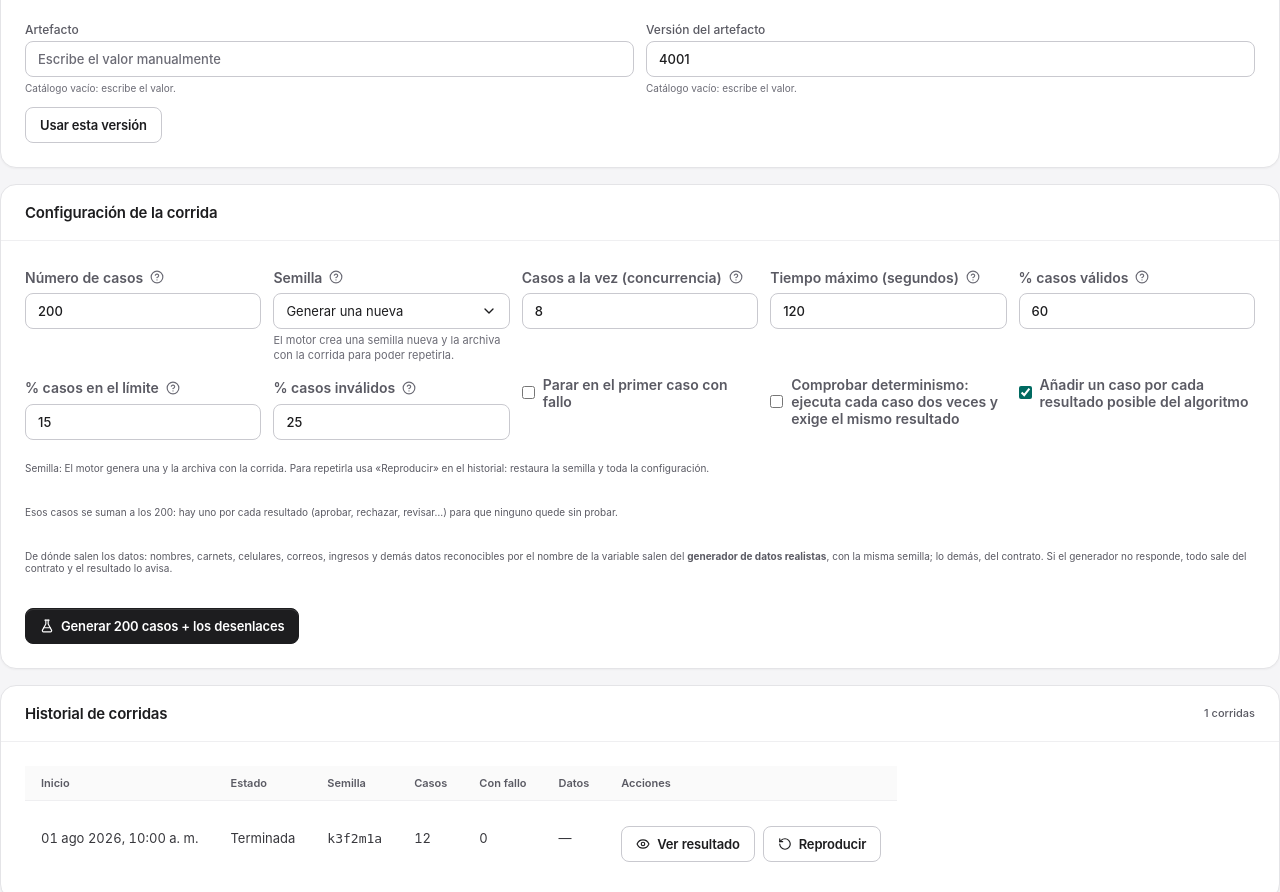
Test: QaLabPage › una corrida cortada y sin fakers lo dice
(page scrolled)
Click the button "Ver resultado".
click(688, 844)  # box [621,826,755,862]
(page scrolled)
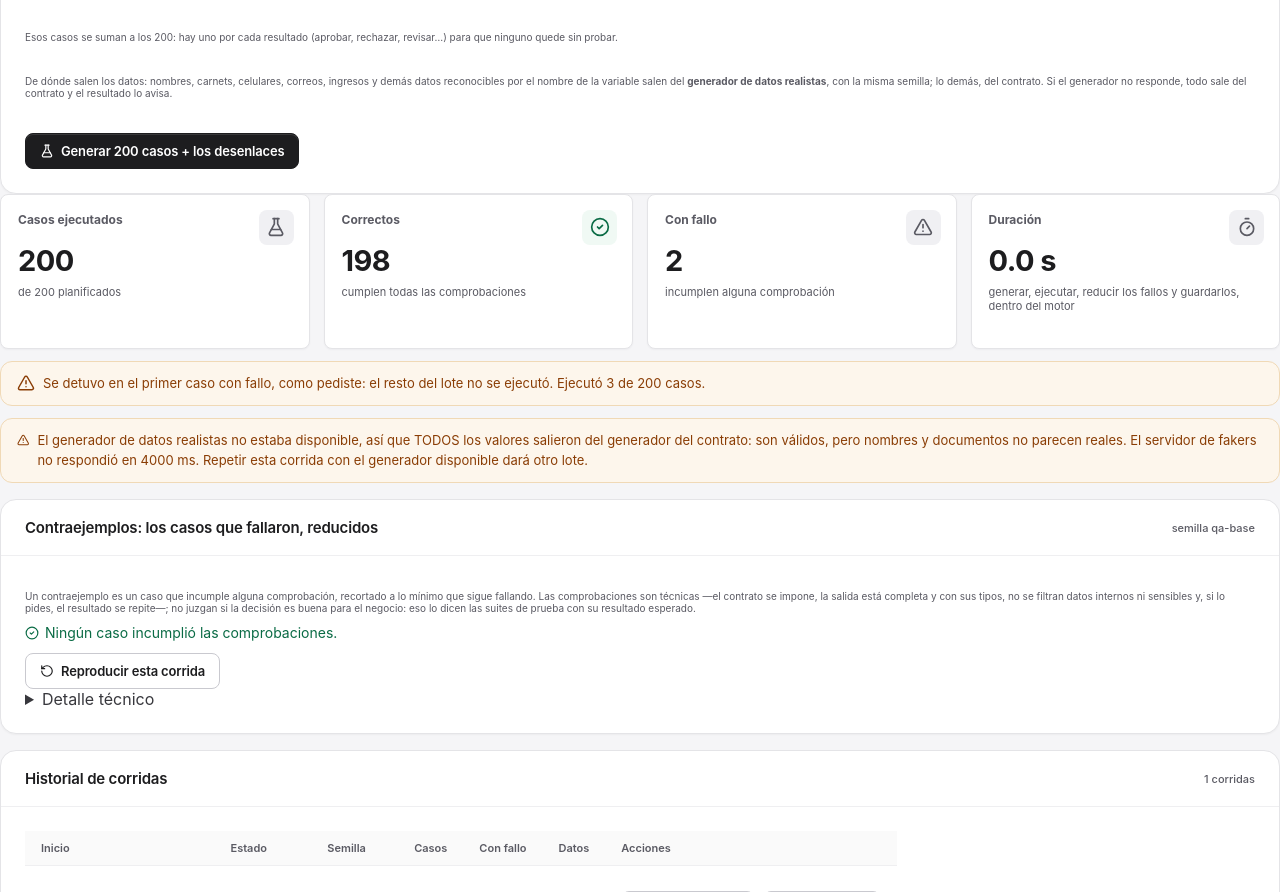
Result: the text "Se detuvo en el primer caso con fallo" is shown at [43,375,553,391]
Result: the text "Ejecutó 3 de 200 casos" is shown at [43,374,705,393]
Result: the text "no respondió en 4000 ms" is shown at [37,432,1256,468]
